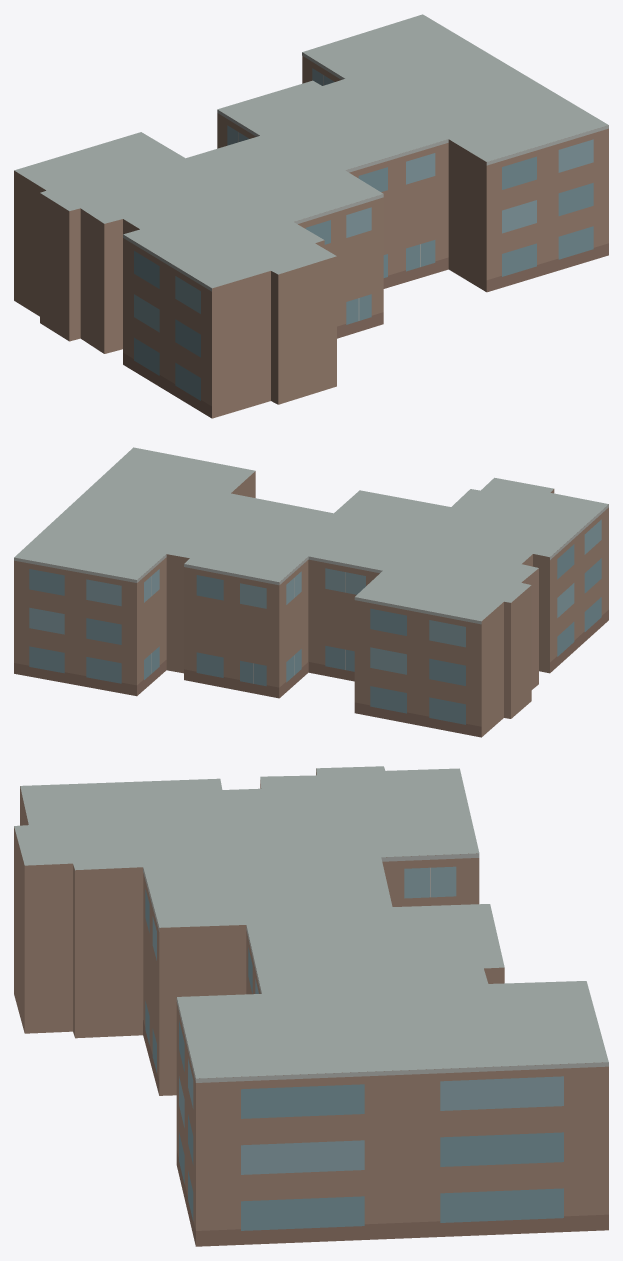
File: survey-upis-32935537.glb
3 views of the same model, one above another, from view 1: azimuth 30°, elevation 25°; view 2: azimuth 150°, elevation 25°; view 3: azimuth 270°, elevation 25° (orthographic). The views are drawn at different scales.
Parts seen in each view (by area): view 1: survey-upis-32935537.tmp; view 2: survey-upis-32935537.tmp; view 3: survey-upis-32935537.tmp.
Part boxes in pixels (x1,y1,x2,y2): survey-upis-32935537.tmp: [14, 14, 608, 418]; survey-upis-32935537.tmp: [14, 447, 608, 737]; survey-upis-32935537.tmp: [14, 766, 608, 1246].
Size of the model in its own units: 36.47 by 9.15 by 29.36.
